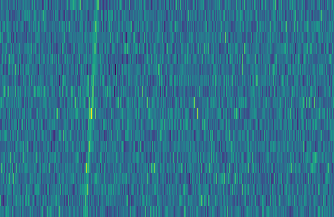signal: (79, 0, 101, 217)
